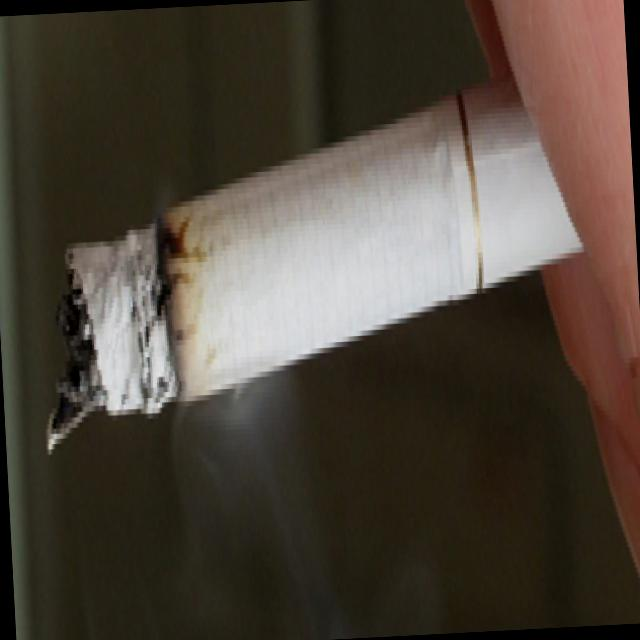cigarette: (18, 81, 552, 456)
